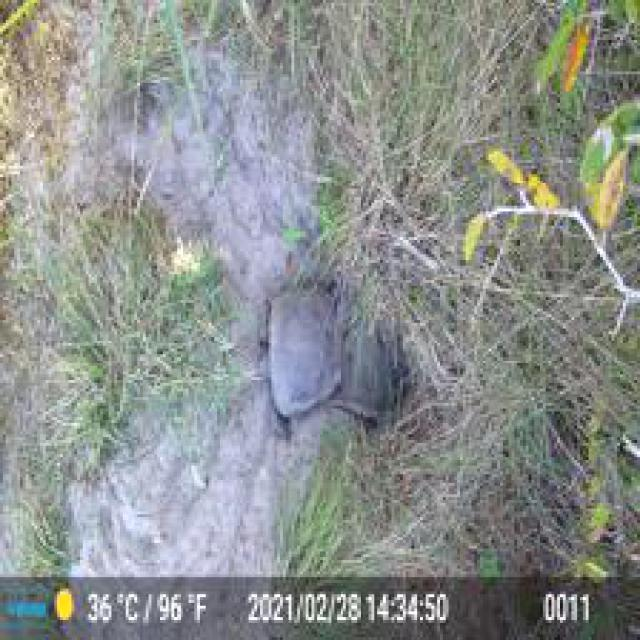tortoise: (260, 283, 340, 426), (340, 331, 408, 419)
